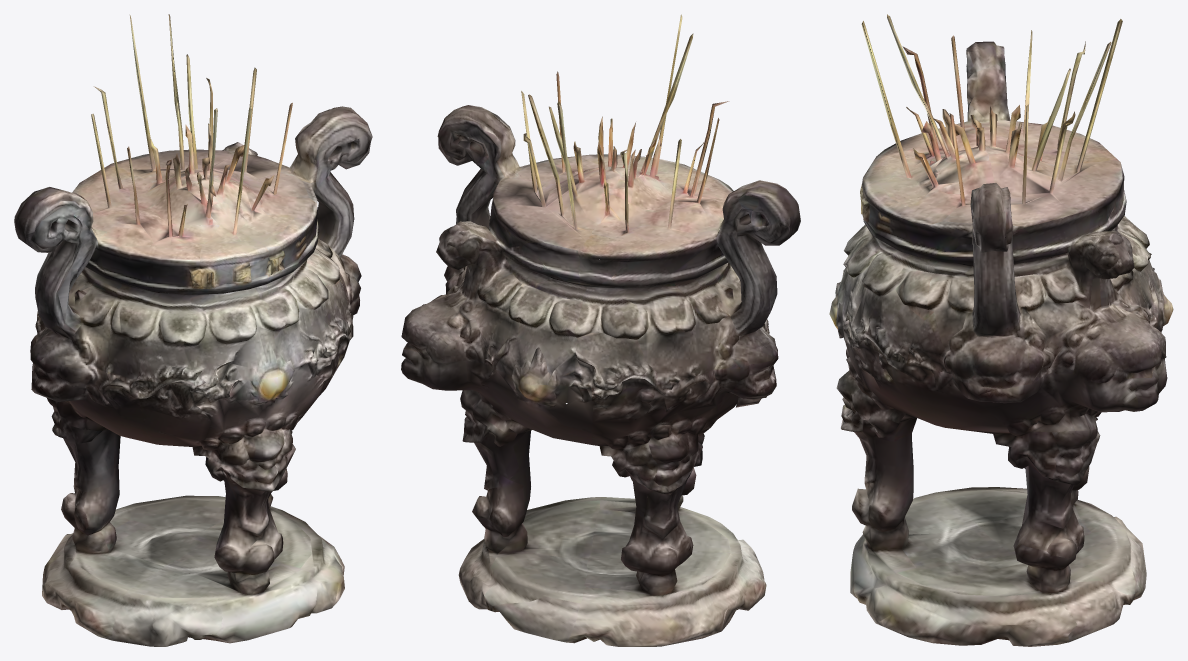
The model's file is incense-burner.glb.
The picture shows the model from 3 angles, left to right: view 1: azimuth 30°, elevation 25°; view 2: azimuth 150°, elevation 25°; view 3: azimuth 270°, elevation 25°; orthographic projection. The views are drawn at different scales.
Visible parts, largest first — view 1: tripo_node_eaae2edd-7b3b-451a-91f6-1c35967650dc; view 2: tripo_node_eaae2edd-7b3b-451a-91f6-1c35967650dc; view 3: tripo_node_eaae2edd-7b3b-451a-91f6-1c35967650dc.
Boxes of the visible parts, x1,y1,x2,y2 form: tripo_node_eaae2edd-7b3b-451a-91f6-1c35967650dc: [14, 14, 372, 646]; tripo_node_eaae2edd-7b3b-451a-91f6-1c35967650dc: [401, 14, 800, 646]; tripo_node_eaae2edd-7b3b-451a-91f6-1c35967650dc: [829, 14, 1173, 646].
Bounding box in the file's own units: 0.6801 × 0.9774 × 0.5434.
1 material, 1 textured.
